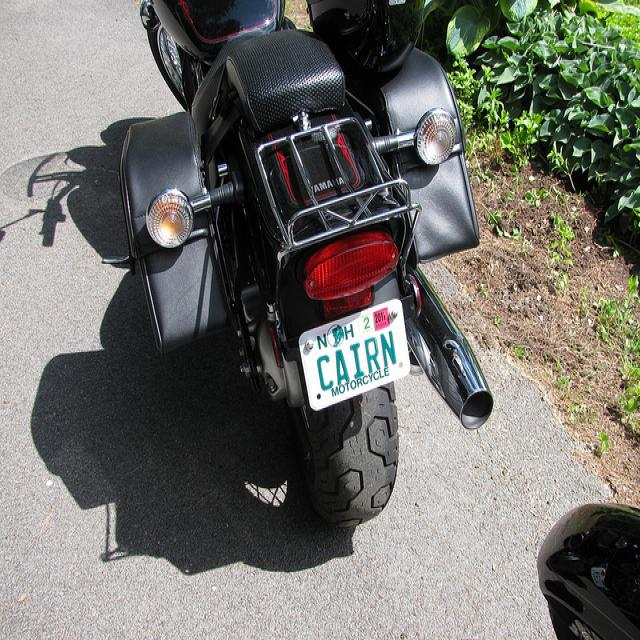motor: (132, 8, 478, 523), (537, 501, 640, 640)
